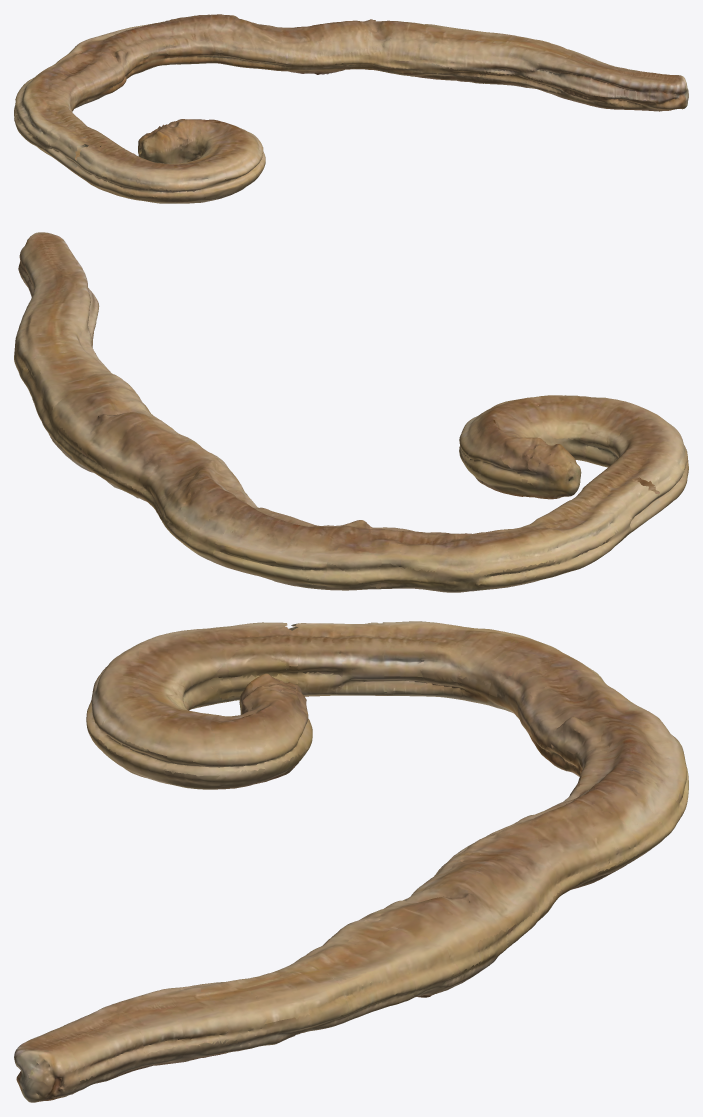
Rendered from enterobius-vermicularis_A_optimized.glb.
3 renders of one model, top to bottom at view 1: azimuth 30°, elevation 25°; view 2: azimuth 150°, elevation 25°; view 3: azimuth 270°, elevation 25°, orthographic. The views are drawn at different scales.
Visible parts, largest first — view 1: ExtAnt_mesh, ExtPost_mesh, Cola_mesh, Cabeza_mesh; view 2: ExtPost_mesh, ExtAnt_mesh, Cola_mesh, Cabeza_mesh; view 3: ExtPost_mesh, ExtAnt_mesh, Cola_mesh, Cabeza_mesh.
Part boxes in pixels (box(x1,y1,x2,y2)): ExtAnt_mesh: box(200, 16, 580, 98); ExtPost_mesh: box(14, 14, 482, 172); Cola_mesh: box(74, 119, 265, 203); Cabeza_mesh: box(559, 53, 688, 111); ExtPost_mesh: box(146, 411, 663, 592); ExtAnt_mesh: box(14, 298, 249, 522); Cola_mesh: box(459, 395, 688, 508); Cabeza_mesh: box(18, 232, 99, 323); ExtPost_mesh: box(58, 621, 688, 1087); ExtAnt_mesh: box(172, 783, 623, 1055); Cola_mesh: box(86, 622, 312, 789); Cabeza_mesh: box(14, 988, 227, 1102).
Size of the model in its own units: 1.99 by 0.1775 by 1.29.
Materials: 1 (1 with a texture image).
